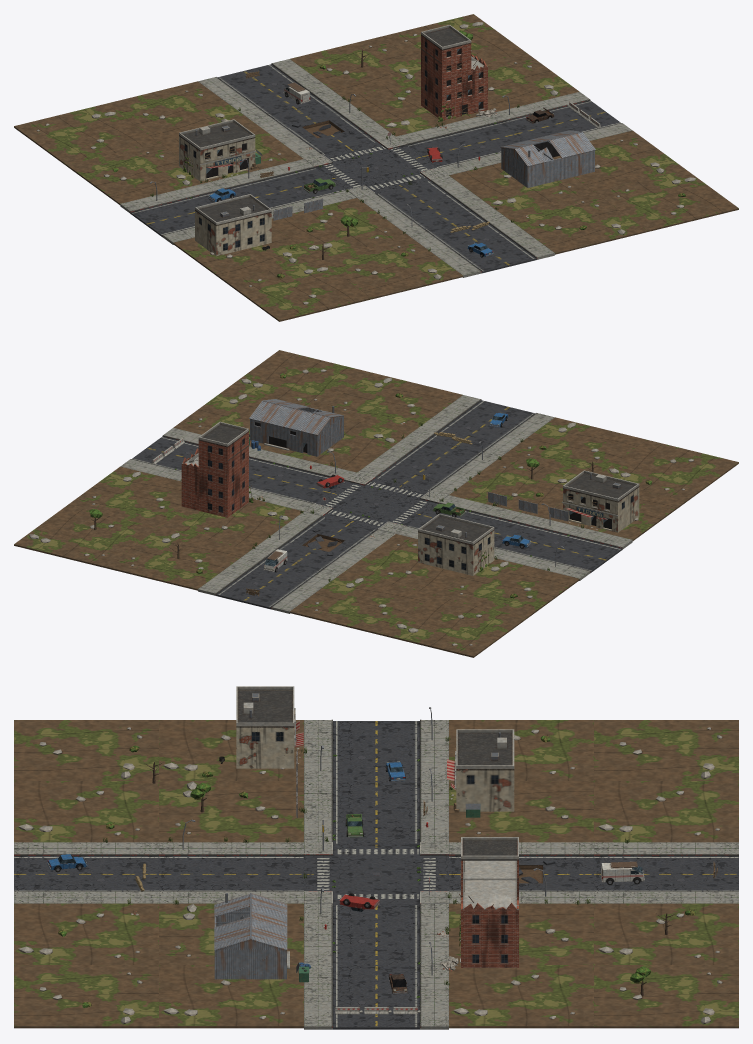
File: Mapa_Completo.fbx
The picture shows the model from 3 angles, top to bottom: view 1: azimuth 30°, elevation 25°; view 2: azimuth 150°, elevation 25°; view 3: azimuth 270°, elevation 25°; orthographic projection. The views are drawn at different scales.
Parts seen in each view (by area): view 1: Edificio_Bloque_01, Suelo_Solar_60_04, Suelo_Solar_60_12, Suelo_Solar_60_02, Suelo_Solar_60_10, Suelo_Solar_60_08, Calle_Recto_60_06, Calle_Cruce_60_01, Calle_Rota_60_01, Suelo_Solar_60_14, Calle_Recto_60_07, Suelo_Solar_60_07 (+17 smaller); view 2: Edificio_Bloque_01, Suelo_Solar_60_08, Suelo_Solar_60_06, Suelo_Solar_60_14, Suelo_Solar_60_16, Calle_Cruce_60_01, Calle_Recto_60_06, Suelo_Solar_60_10, Calle_Recto_60_01, Suelo_Solar_60_12, Calle_Recto_60_05, Calle_Rota_60_01 (+17 smaller); view 3: Suelo_Solar_60_12, Suelo_Solar_60_15, Suelo_Solar_60_16, Suelo_Solar_60_06, Suelo_Solar_60_10, Suelo_Solar_60_02, Suelo_Solar_60_14, Suelo_Solar_60_08, Suelo_Solar_60_04, Suelo_Solar_60_01, Calle_Recto_60_03, Calle_Cruce_60_01 (+18 smaller).
Part boxes in pixels (x1,y1,x2,y2): Edificio_Bloque_01: [421, 25, 496, 120]; Suelo_Solar_60_04: [226, 259, 371, 321]; Suelo_Solar_60_12: [594, 169, 738, 231]; Suelo_Solar_60_02: [318, 237, 463, 299]; Suelo_Solar_60_10: [502, 192, 646, 254]; Suelo_Solar_60_08: [14, 104, 158, 165]; Calle_Recto_60_06: [357, 175, 501, 236]; Calle_Cruce_60_01: [304, 136, 448, 197]; Calle_Rota_60_01: [251, 98, 395, 158]; Suelo_Solar_60_14: [290, 36, 420, 97]; Calle_Recto_60_07: [410, 214, 554, 277]; Suelo_Solar_60_07: [67, 142, 211, 204]; Edificio_Bloque_01: [181, 421, 248, 517]; Suelo_Solar_60_08: [381, 595, 526, 657]; Suelo_Solar_60_06: [289, 573, 434, 635]; Suelo_Solar_60_14: [106, 528, 250, 590]; Suelo_Solar_60_16: [14, 505, 158, 567]; Calle_Cruce_60_01: [304, 472, 448, 533]; Calle_Recto_60_06: [357, 434, 501, 494]; Suelo_Solar_60_10: [320, 372, 462, 433]; Calle_Recto_60_01: [494, 517, 632, 580]; Suelo_Solar_60_12: [226, 350, 370, 409]; Calle_Recto_60_05: [198, 550, 342, 613]; Calle_Rota_60_01: [251, 511, 395, 572]; Suelo_Solar_60_12: [14, 965, 158, 1028]; Suelo_Solar_60_15: [449, 965, 593, 1028]; Suelo_Solar_60_16: [594, 965, 738, 1028]; Suelo_Solar_60_06: [594, 781, 738, 842]; Suelo_Solar_60_10: [14, 903, 158, 964]; Suelo_Solar_60_02: [14, 781, 158, 842]; Suelo_Solar_60_14: [594, 903, 738, 964]; Suelo_Solar_60_08: [594, 720, 738, 780]; Suelo_Solar_60_04: [14, 720, 158, 780]; Suelo_Solar_60_01: [159, 781, 303, 842]; Calle_Recto_60_03: [304, 903, 448, 965]; Calle_Cruce_60_01: [304, 842, 448, 904].
Size of the model in its own units: 300 by 49.52 by 300.
33 materials, 33 textured.
